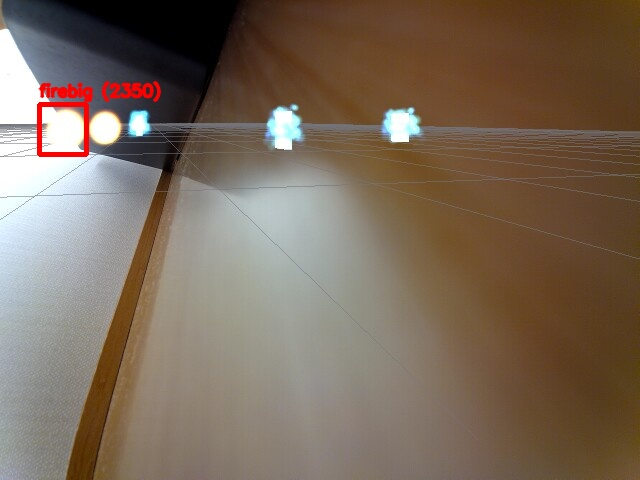firebig: (39, 104, 86, 154)
